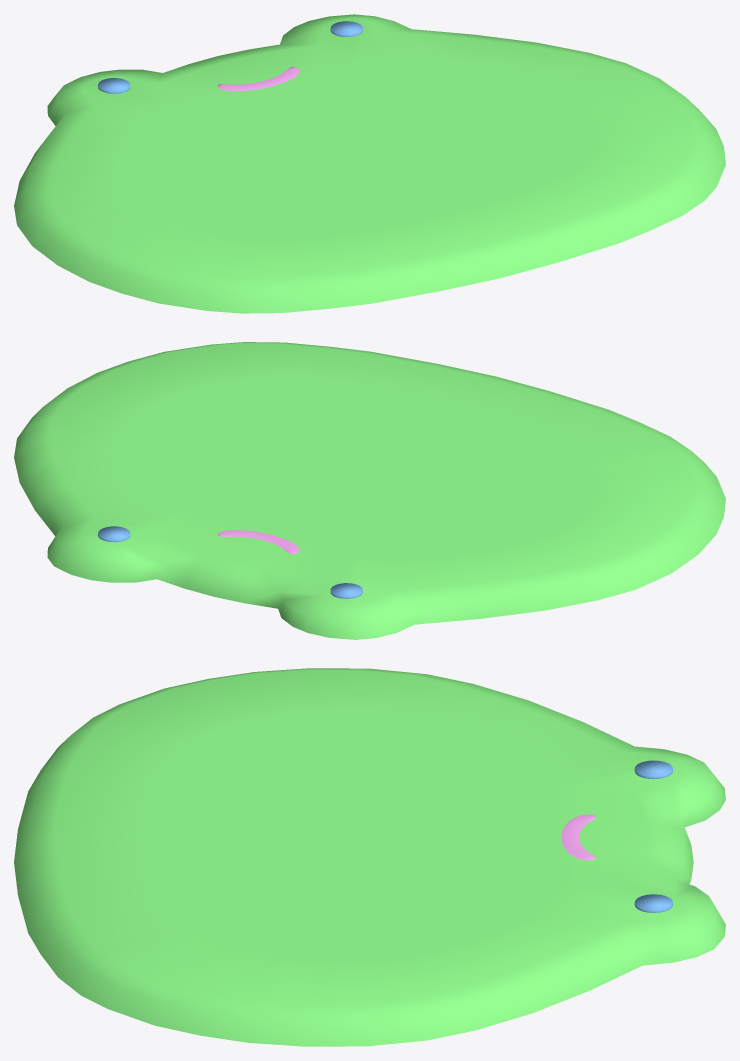
Rendered from MattoFroggo2.fbx.
3 views of the same model, one above another, from view 1: azimuth 30°, elevation 25°; view 2: azimuth 150°, elevation 25°; view 3: azimuth 270°, elevation 25° (orthographic). The views are drawn at different scales.
Visible parts, largest first — view 1: FROGGY; view 2: FROGGY; view 3: FROGGY.
Part boxes in pixels (left/top/right/bottom): FROGGY: left=14, top=14, right=725, bottom=313; FROGGY: left=14, top=342, right=725, bottom=639; FROGGY: left=14, top=668, right=725, bottom=1046.
Bounding box in the file's own units: 3.18 × 0.1082 × 2.6.
